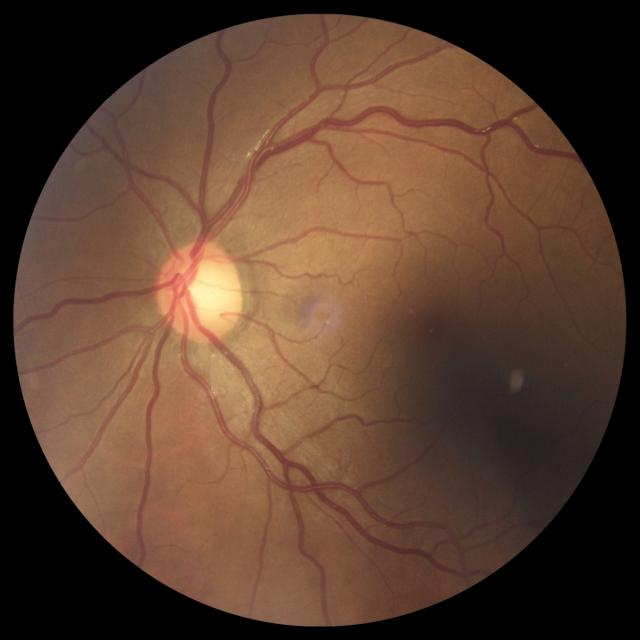OC: (175, 259, 233, 320)
OD: (158, 240, 244, 342)
